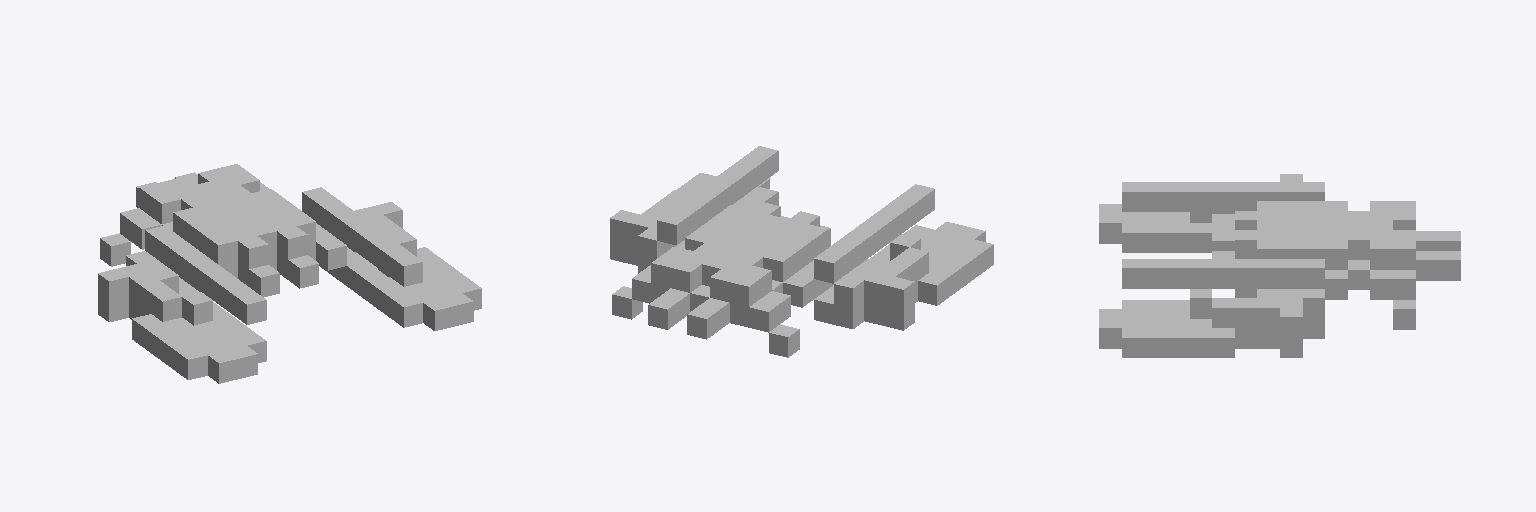
File: boss01.obj
3 renders of one model, left to right at view 1: azimuth 30°, elevation 25°; view 2: azimuth 150°, elevation 25°; view 3: azimuth 270°, elevation 25°, orthographic.
Parts seen in each view (by area): view 1: group_0.003_ID52, group_0.004_ID60, group_0.001_ID36, group_0.002_ID44, group_0.005_ID70, group_0_ID26, group_0.006_ID78, group_1_ID5, group_2_ID18, group_0.007_ID86; view 2: group_0.003_ID52, group_0.004_ID60, group_0.005_ID70, group_0_ID26, group_1_ID5, group_0.006_ID78, group_2_ID18; view 3: group_0.003_ID52, group_0.004_ID60, group_0_ID26, group_0.005_ID70, group_0.007_ID86, group_0.002_ID44, group_0.001_ID36, group_0.006_ID78.
Part boxes in pixels (x1,y1,x2,y2): group_0.003_ID52: (100, 172, 481, 383); group_0.004_ID60: (173, 189, 315, 278); group_0.001_ID36: (277, 226, 318, 288); group_0.002_ID44: (238, 236, 279, 297); group_0.005_ID70: (139, 178, 200, 223); group_0_ID26: (198, 164, 259, 192); group_0.006_ID78: (163, 318, 234, 346); group_1_ID5: (98, 269, 128, 301); group_2_ID18: (98, 294, 128, 321); group_0.007_ID86: (356, 253, 450, 293); group_0.003_ID52: (610, 146, 993, 357); group_0.004_ID60: (685, 205, 827, 281); group_0.005_ID70: (710, 261, 771, 327); group_0_ID26: (651, 247, 711, 301); group_1_ID5: (884, 277, 914, 309); group_0.006_ID78: (921, 238, 961, 271); group_2_ID18: (884, 302, 914, 330); group_0.003_ID52: (1099, 182, 1460, 357); group_0.004_ID60: (1257, 201, 1347, 269); group_0_ID26: (1370, 230, 1415, 269); group_0.005_ID70: (1370, 201, 1415, 229); group_0.007_ID86: (1144, 309, 1211, 327); group_0.002_ID44: (1212, 211, 1256, 250); group_0.001_ID36: (1212, 230, 1256, 258); group_0.006_ID78: (1144, 212, 1234, 222).
Bounding box in the file's own units: 19.69 × 3.94 × 21.